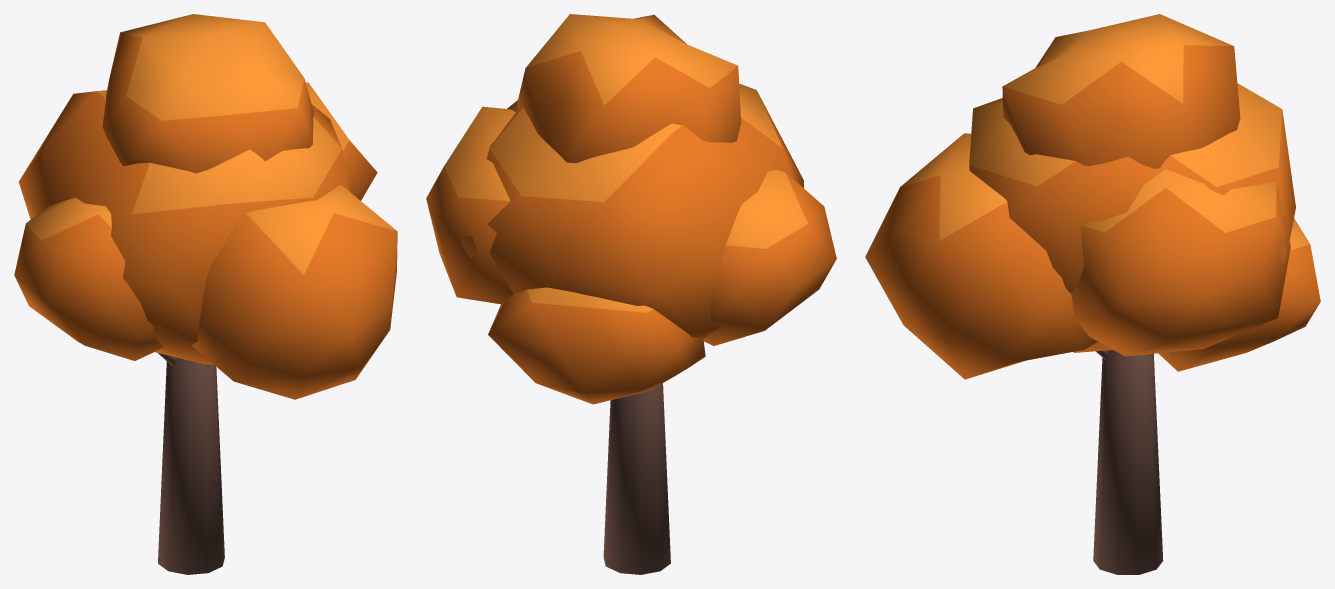
File: TreeAutumn.glb
3 views of the same model, side by side, from view 1: azimuth 30°, elevation 25°; view 2: azimuth 150°, elevation 25°; view 3: azimuth 270°, elevation 25° (orthographic). The views are drawn at different scales.
Visible parts, largest first — view 1: TreeAutumn; view 2: TreeAutumn; view 3: TreeAutumn.
Part boxes in pixels (x1,y1,x2,y2): TreeAutumn: (14, 14, 397, 574); TreeAutumn: (426, 14, 836, 574); TreeAutumn: (865, 14, 1320, 574).
Bounding box in the file's own units: 5.99 × 8.44 × 6.51.
